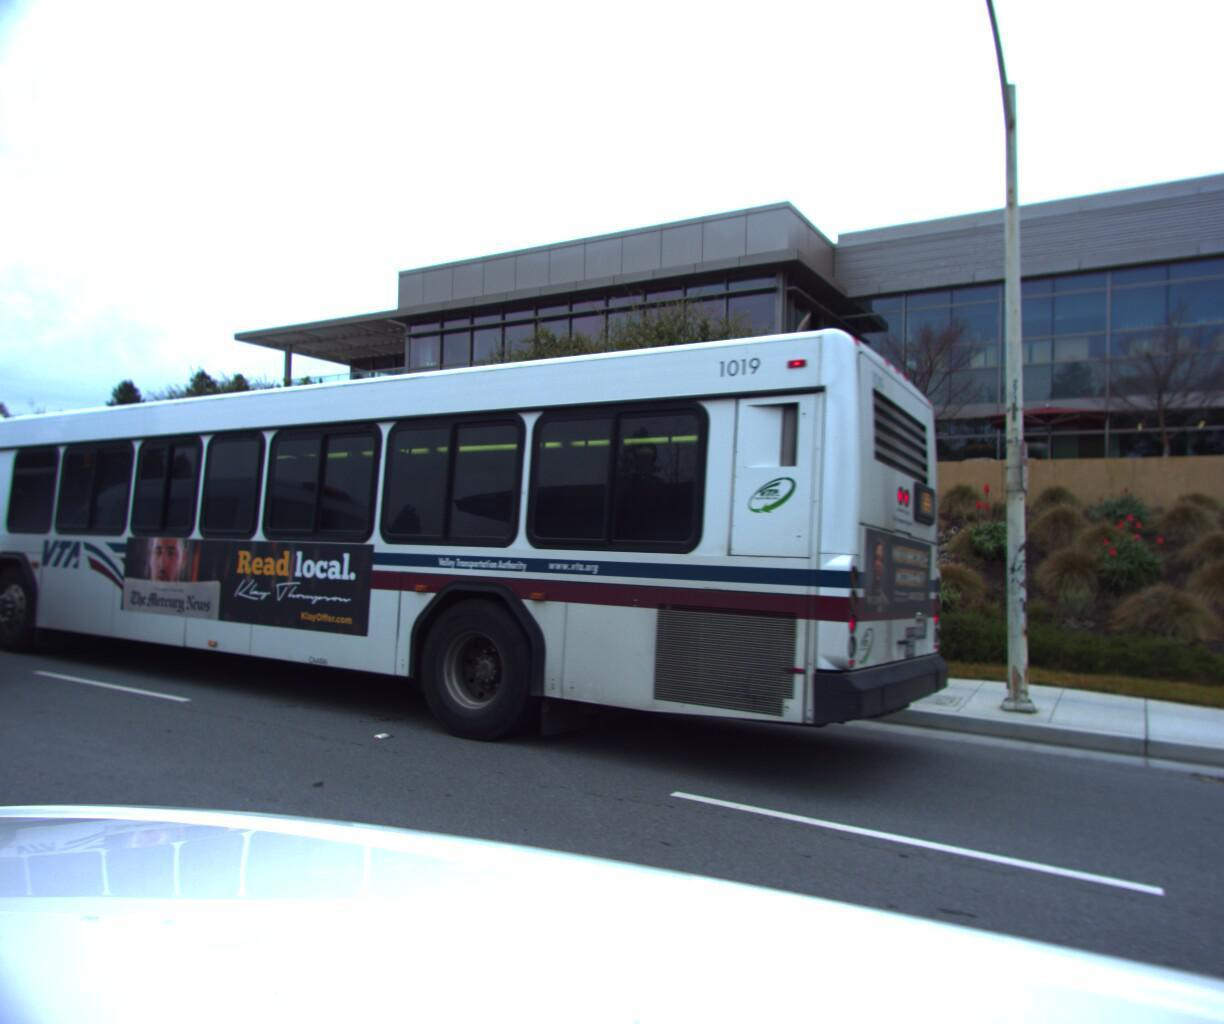bus: (0, 284, 994, 851)
car: (0, 374, 6, 735)
